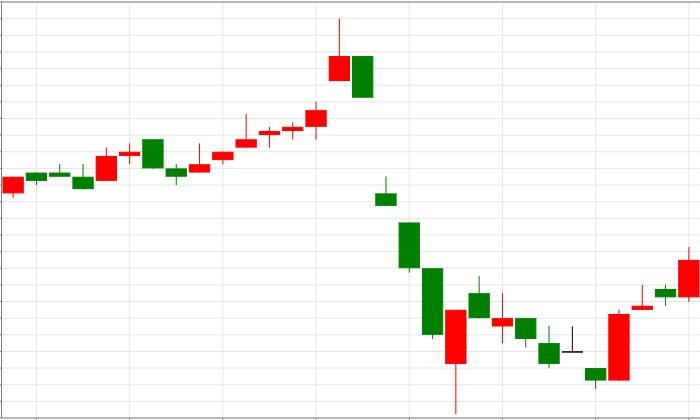bearish_engulfing_fall: (72, 138, 164, 189)
